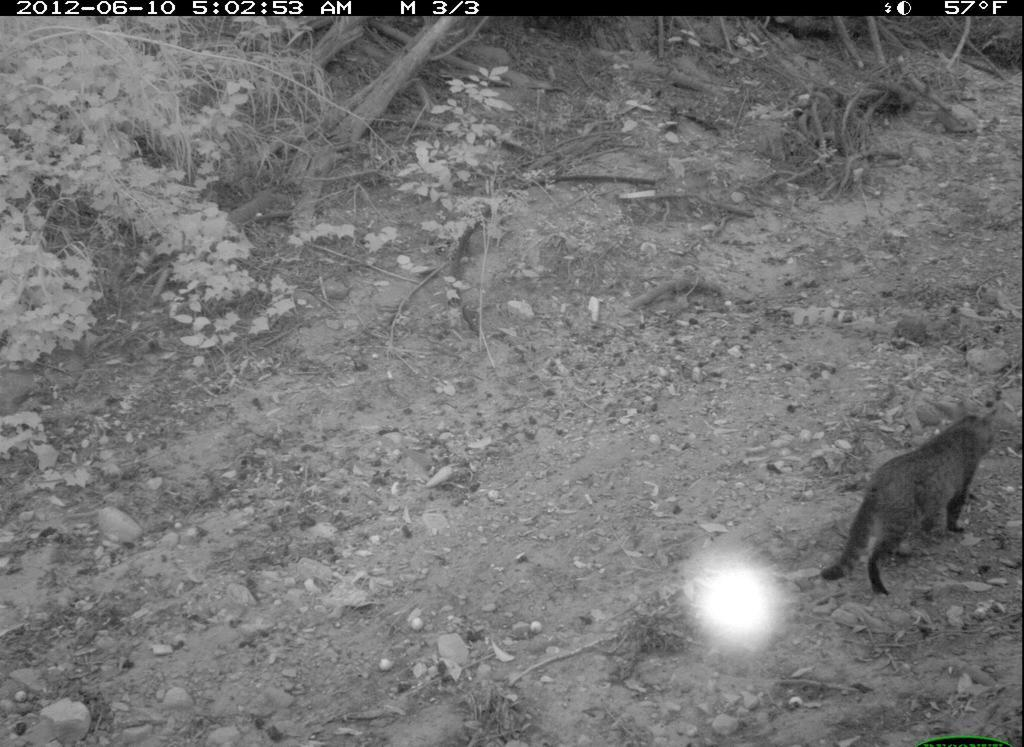cat: (818, 401, 1000, 605)
